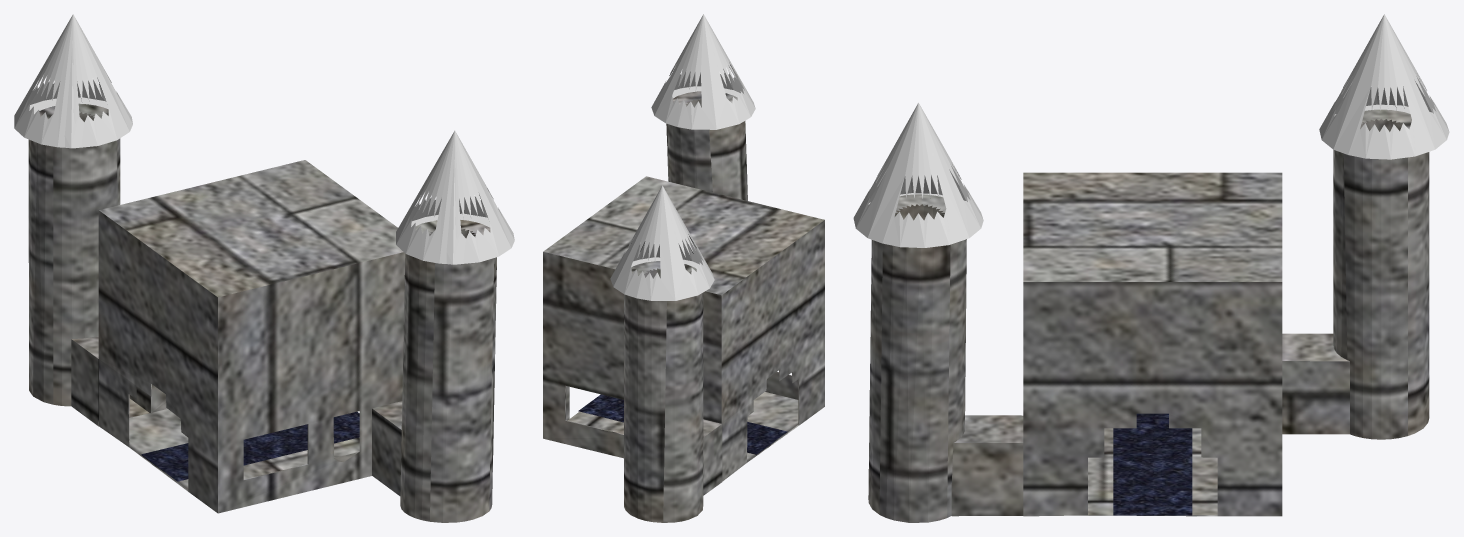
File: castle3.dae
3 views of the same model, side by side, from view 1: azimuth 30°, elevation 25°; view 2: azimuth 150°, elevation 25°; view 3: azimuth 270°, elevation 25° (orthographic). The views are drawn at different scales.
Parts seen in each view (by area): view 1: Cube; view 2: Cube; view 3: Cube.
Boxes of the visible parts, x1,y1,x2,y2 form: Cube: [14, 14, 514, 522]; Cube: [543, 14, 824, 522]; Cube: [853, 14, 1449, 522].
Size of the model in its own units: 0.1768 by 0.3104 by 0.2325.
1 material, 1 textured.
